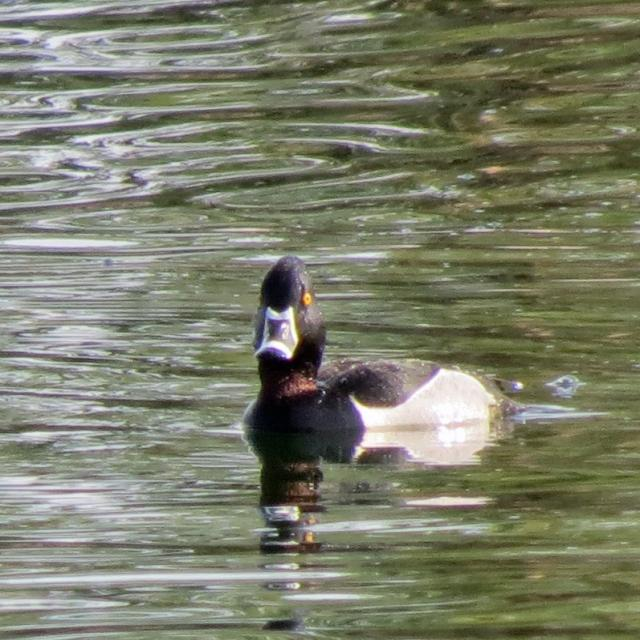bird: (242, 251, 525, 440)
